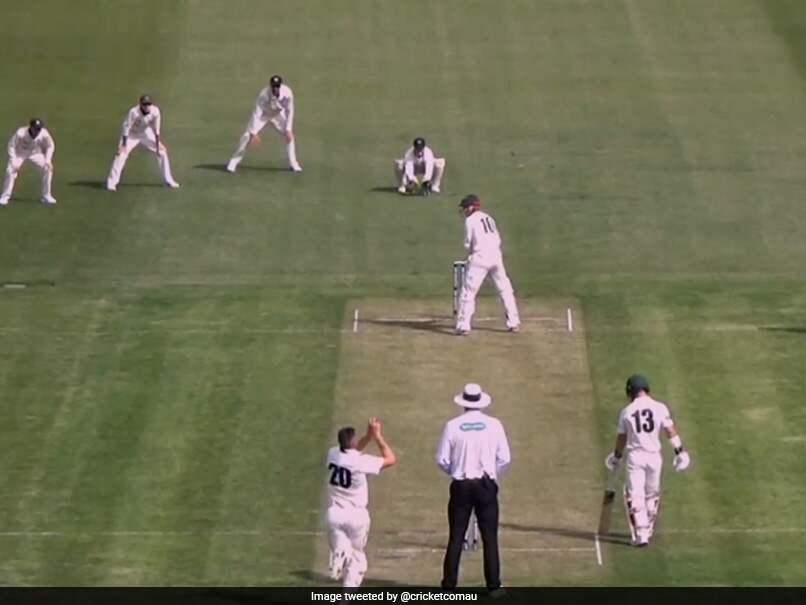batsman: (456, 193, 523, 335)
